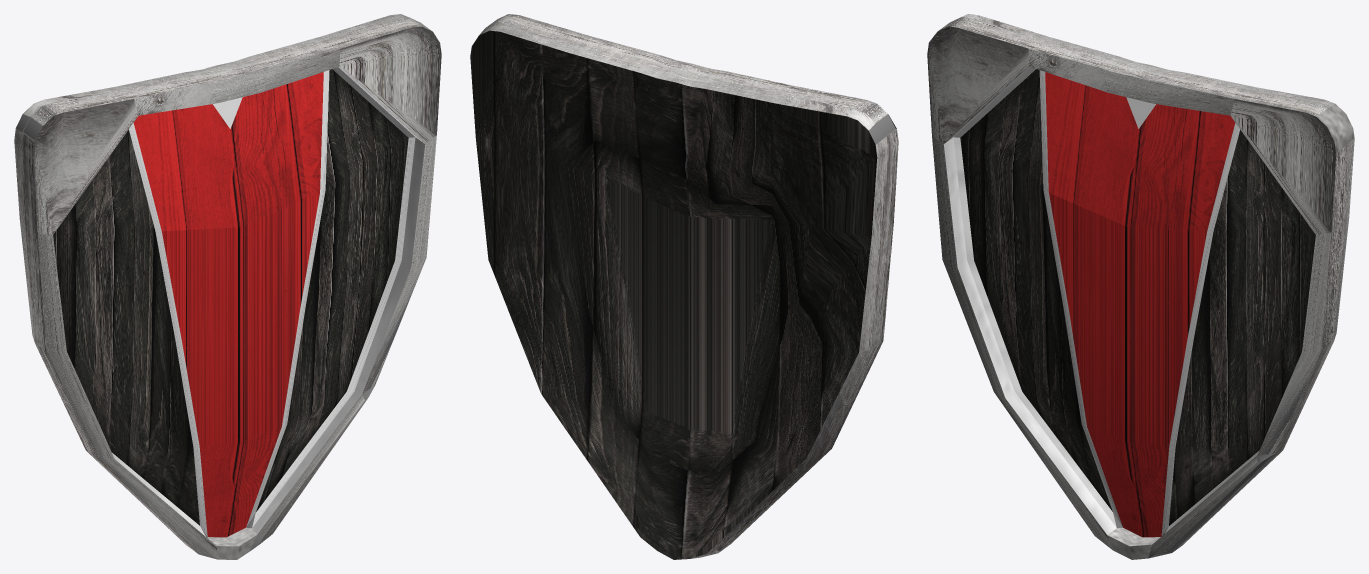
File: Escudo1.obj
3 renders of one model, left to right at view 1: azimuth 30°, elevation 25°; view 2: azimuth 150°, elevation 25°; view 3: azimuth 330°, elevation 25°, orthographic.
Visible parts, largest first — view 1: polySurface6polySurface2Mesh; view 2: polySurface6polySurface2Mesh; view 3: polySurface6polySurface2Mesh.
Boxes of the visible parts, x1,y1,x2,y2 form: polySurface6polySurface2Mesh: (14,14,441,559); polySurface6polySurface2Mesh: (470,14,898,559); polySurface6polySurface2Mesh: (927,14,1354,559).
Size of the model in its own units: 1.71 by 1.96 by 0.1722.
